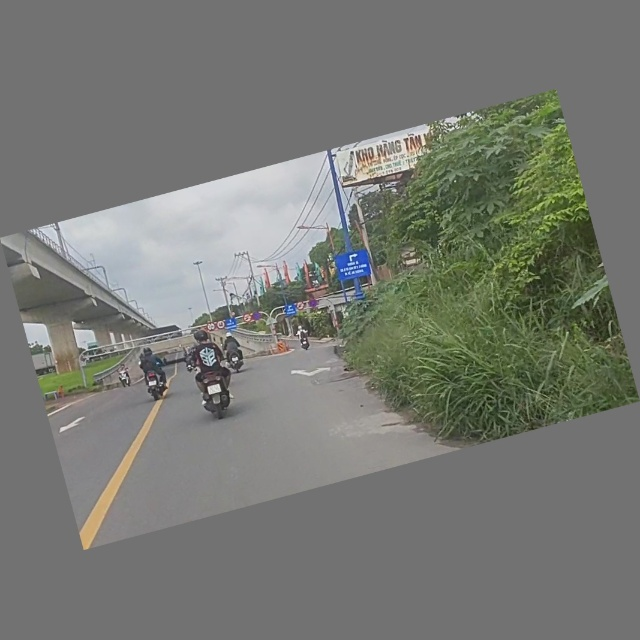P.107: (241, 313, 253, 324), (294, 301, 306, 312)
P.117*: (205, 321, 217, 333)
P.127*40: (215, 319, 227, 332)
P.130: (251, 311, 263, 322), (308, 298, 319, 309)
